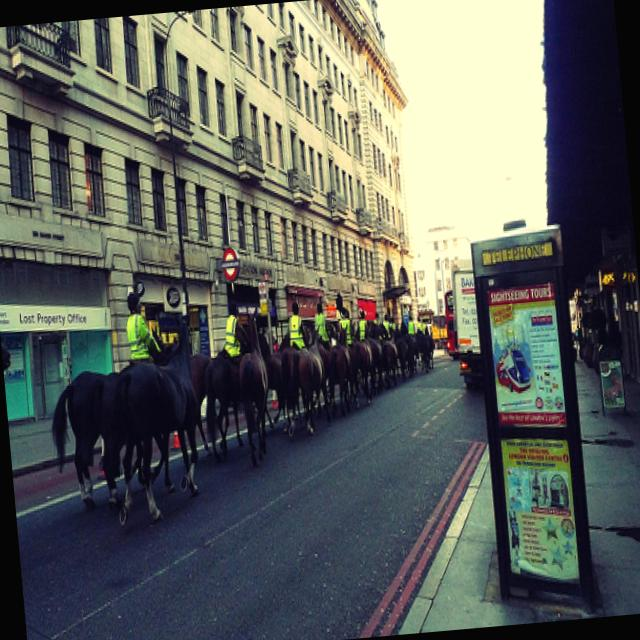Vehicle: (446, 258, 484, 397)
